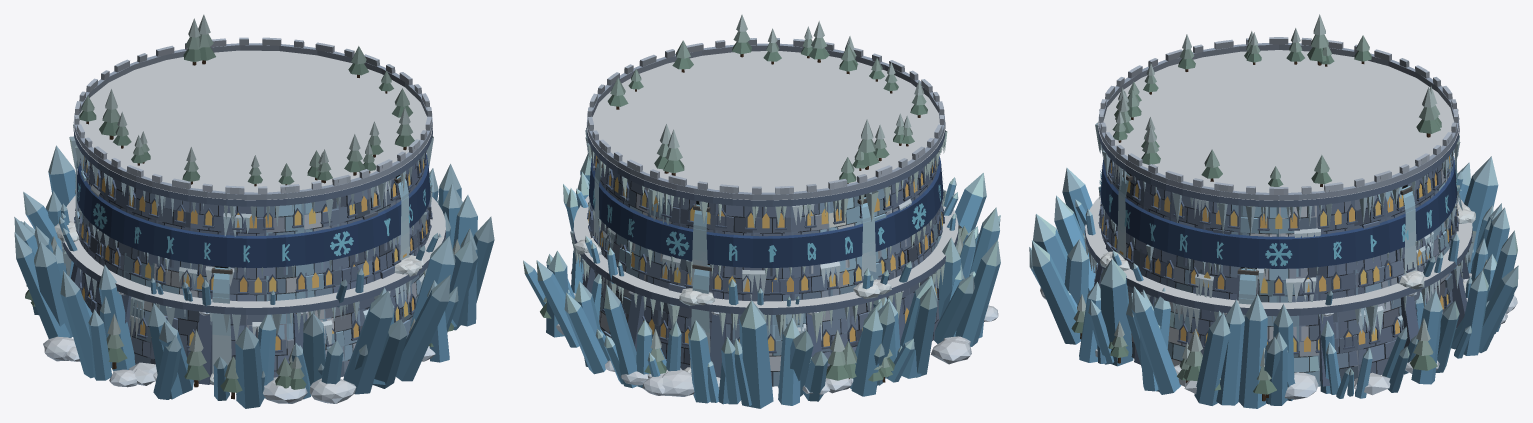
Rendered from WorldTower_2_Frost.fbx.
3 views of the same model, side by side, from view 1: azimuth 30°, elevation 25°; view 2: azimuth 150°, elevation 25°; view 3: azimuth 270°, elevation 25° (orthographic).
Parts seen in each view (by area): view 1: Body_Near, Body_Far; view 2: Body_Near, Body_Far; view 3: Body_Near, Body_Far.
Boxes of the visible parts, x1,y1,x2,y2 form: Body_Near: (14,14,477,408); Body_Far: (25,37,494,399); Body_Near: (536,14,1000,405); Body_Far: (523,38,983,408); Body_Near: (1029,14,1518,408); Body_Far: (1032,35,1517,400).
Size of the model in its own units: 161 by 90.06 by 163.
